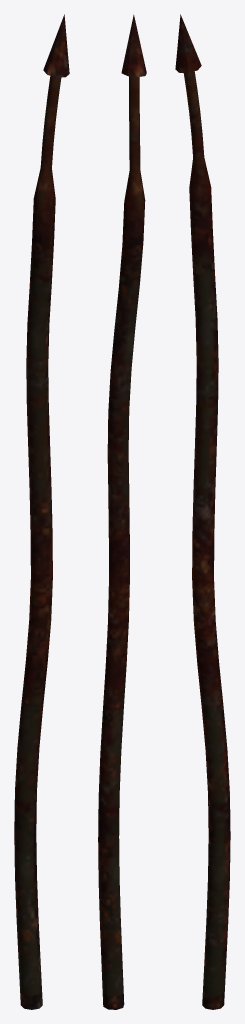
Rendered from SM_fence_19.fbx.
3 renders of one model, left to right at view 1: azimuth 90°, elevation 25°; view 2: azimuth 150°, elevation 25°; view 3: azimuth 270°, elevation 25°, orthographic.
Parts seen in each view (by area): view 1: SM_fence_19; view 2: SM_fence_19; view 3: SM_fence_19.
Boxes of the visible parts, x1,y1,x2,y2 form: SM_fence_19: (14,14,69,1009); SM_fence_19: (98,14,146,1009); SM_fence_19: (175,14,230,1009).
Size of the model in its own units: 5 by 133 by 6.7.
